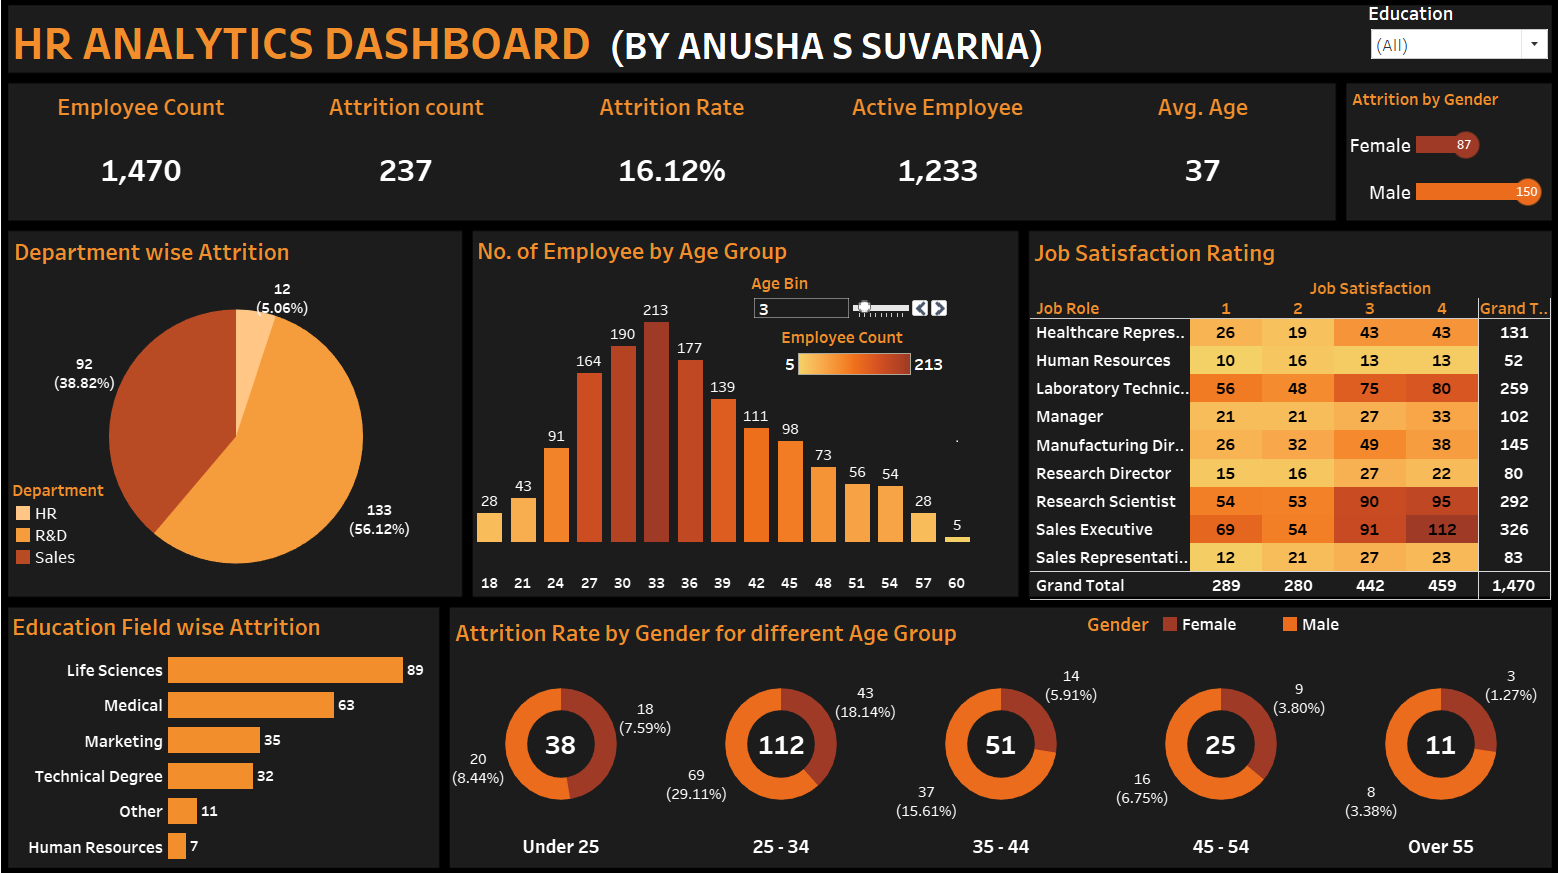

The page's visual inventory and layout, read from the dashboard file:
{"tool":"tableau","page":{"name":"HR ANALYTICS DASHBOARD","canvas":[1600,900],"ordinal":0},"visuals":[{"type":"image","param":"Image/HR bg.png","box":[8,8,1584,884]},{"type":"filter","title":"Department wise Attrition","param":"[federated.07gagu80i2bx2b11gaqe11516bcu].[none:Education:nk]","box":[1388,14,183,67]},{"type":"text","box":[28,20,1063,70]},{"type":"worksheet","title":"KPI","mark":"Automatic","box":[28,95,1328,137]},{"type":"worksheet","title":"Attrition by Gender","mark":"Automatic","rows":["Gender"],"cols":["Calculation_1235112198730420224","Calculation_1235112198730420224"],"box":[1368,98,201,131]},{"type":"worksheet","title":"No. of Employee by Age Group","mark":"Automatic","rows":["Employee Count"],"cols":["Age (bin)"],"box":[493,245,501,362]},{"type":"worksheet","title":"Department wise Attrition","mark":"Pie","box":[30,246,452,364]},{"type":"worksheet","title":"Job Satisfaction Rating","mark":"Square","rows":["Job Role"],"cols":["Job Satisfaction"],"box":[1050,247,521,367]},{"type":"parameter","param":"[Parameters].[Parameter 1]","box":[771,286,199,63]},{"type":"legend","title":"No. of Employee by Age Group","param":"[federated.07gagu80i2bx2b11gaqe11516bcu].[sum:Employee Count:qk]","box":[801,340,167,73]},{"type":"legend","title":"Department wise Attrition","param":"[federated.07gagu80i2bx2b11gaqe11516bcu].[none:Department:nk]","box":[32,493,103,114]},{"type":"worksheet","title":"Education Field wise Attrition","mark":"Automatic","rows":["Education Field"],"cols":["Calculation_1235112198730420224"],"box":[28,621,432,257]},{"type":"worksheet","title":"Attrition Rate by Gender for different Age Group","mark":"Pie","rows":["Calculation_1235112199146504196","Calculation_1235112199146504196"],"cols":["CF_age band"],"box":[471,627,1100,246]},{"type":"legend","title":"Attrition Rate by Gender for different Age Group","param":"[federated.07gagu80i2bx2b11gaqe11516bcu].[none:Gender:nk]","box":[1107,627,431,34]}]}

Visuals, with their boxes in screenshot pixels (x1, y1, x2, y2), scaled from the page's 1600x900 canvas onto the 1558x873 screenshot:
image: rect(8, 8, 1550, 865)
"Department wise Attrition" filter: rect(1352, 14, 1530, 79)
text: rect(27, 19, 1062, 87)
"KPI" worksheet: rect(27, 92, 1320, 225)
"Attrition by Gender" worksheet: rect(1332, 95, 1528, 222)
"No. of Employee by Age Group" worksheet: rect(480, 238, 968, 589)
"Department wise Attrition" worksheet (Pie marks): rect(29, 239, 469, 592)
"Job Satisfaction Rating" worksheet (Square marks): rect(1022, 240, 1530, 596)
parameter: rect(751, 277, 945, 339)
"No. of Employee by Age Group" legend: rect(780, 330, 943, 401)
"Department wise Attrition" legend: rect(31, 478, 131, 589)
"Education Field wise Attrition" worksheet: rect(27, 602, 448, 852)
"Attrition Rate by Gender for different Age Group" worksheet (Pie marks): rect(459, 608, 1530, 847)
"Attrition Rate by Gender for different Age Group" legend: rect(1078, 608, 1498, 641)
